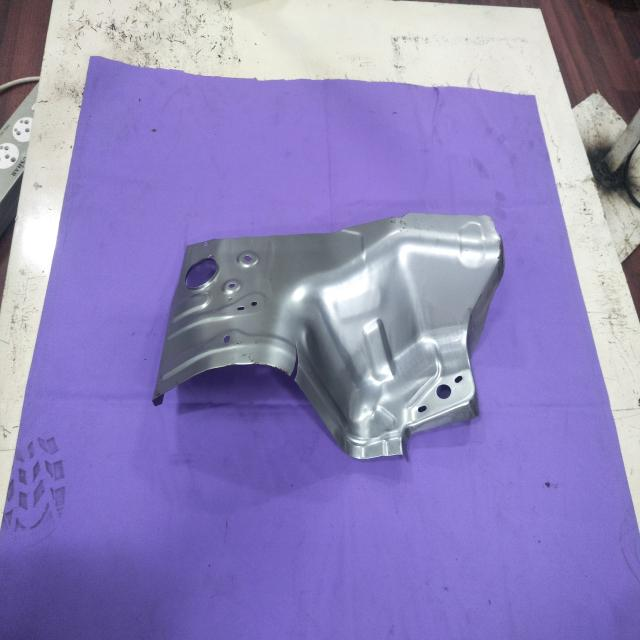Defect: (278, 331, 314, 391)
